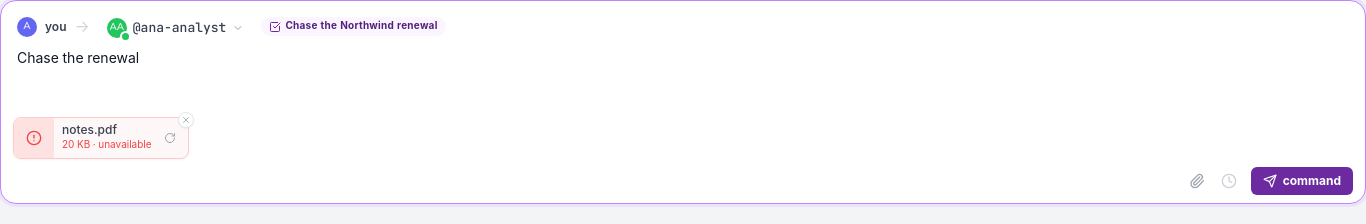
DeskComposer re-stages stored attachments › renders an error chip whose retry re-fetches
Check: the text "20 KB · unavailable" is shown, box x1=62 y1=138 x2=152 y2=153
Check: the button "command" is enabled, box x1=1251 y1=166 x2=1353 y2=194
What coordinates should you click on to do the following:
click the button titled "Retry notes.pdf"
I would click on:
 (170, 138)
Its box is x1=160 y1=128 x2=180 y2=148.
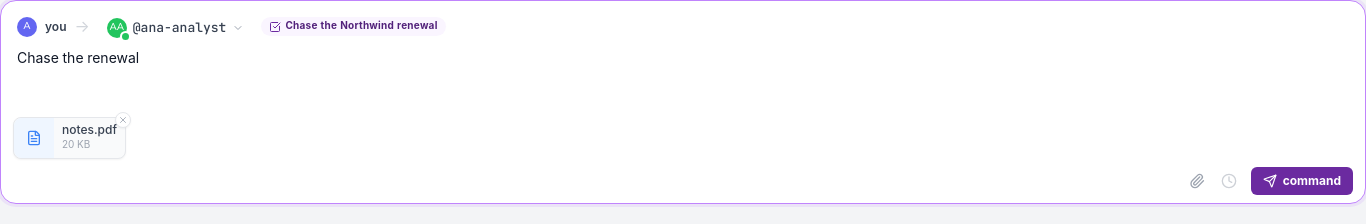
Check: the button "unavailable" is gone
